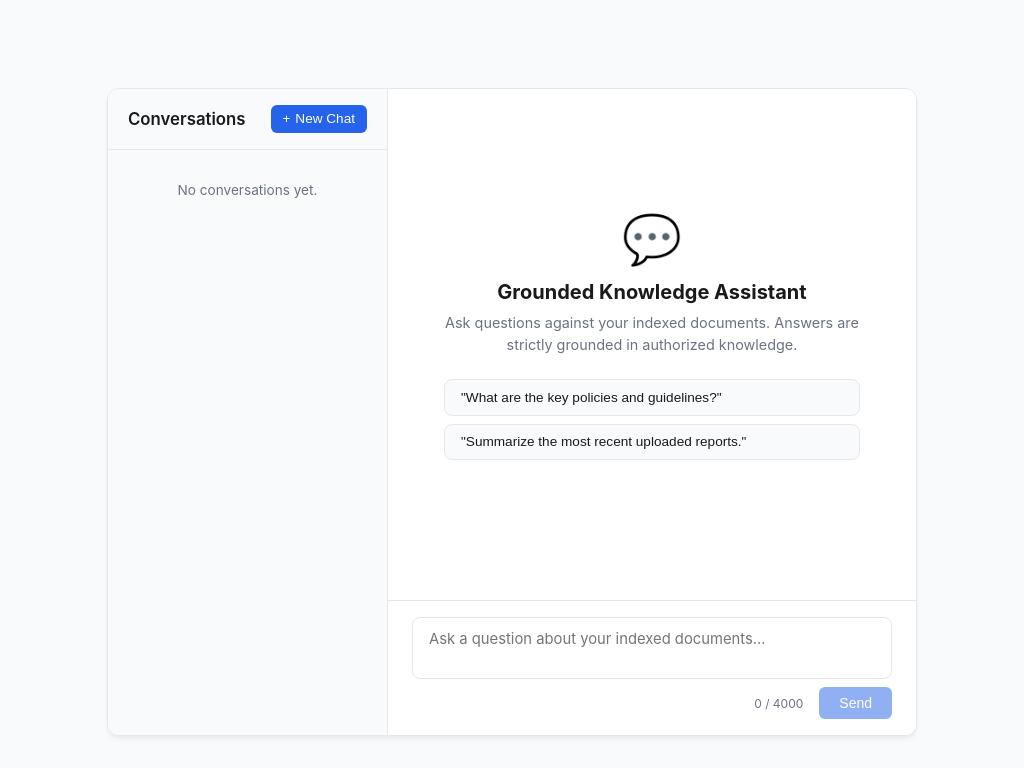
Test case: ChatInterface (Phase 7 - Chunk 7.5) › creates a new conversation and renders it in the sidebar
The width and height of the screenshot is (1024, 768).
Click the button with test id "new-chat-button": [319, 119] box [271,105,367,133]
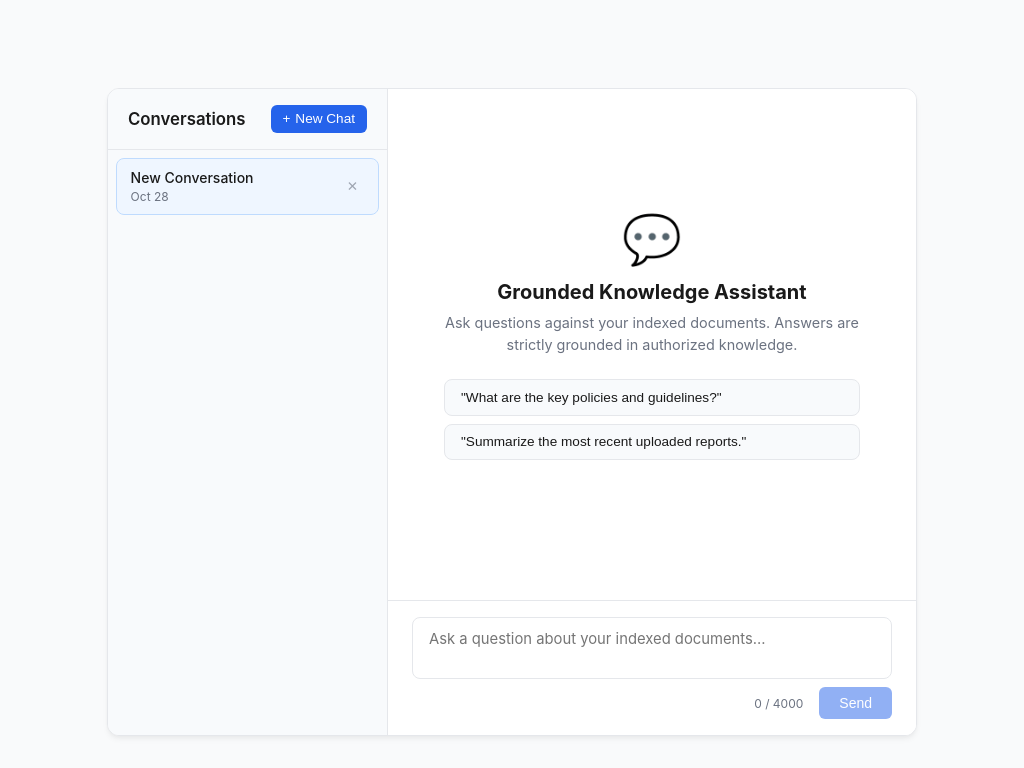
Expected: the element with test id "conversation-item-conv-1" is shown, [116,158,379,215]
